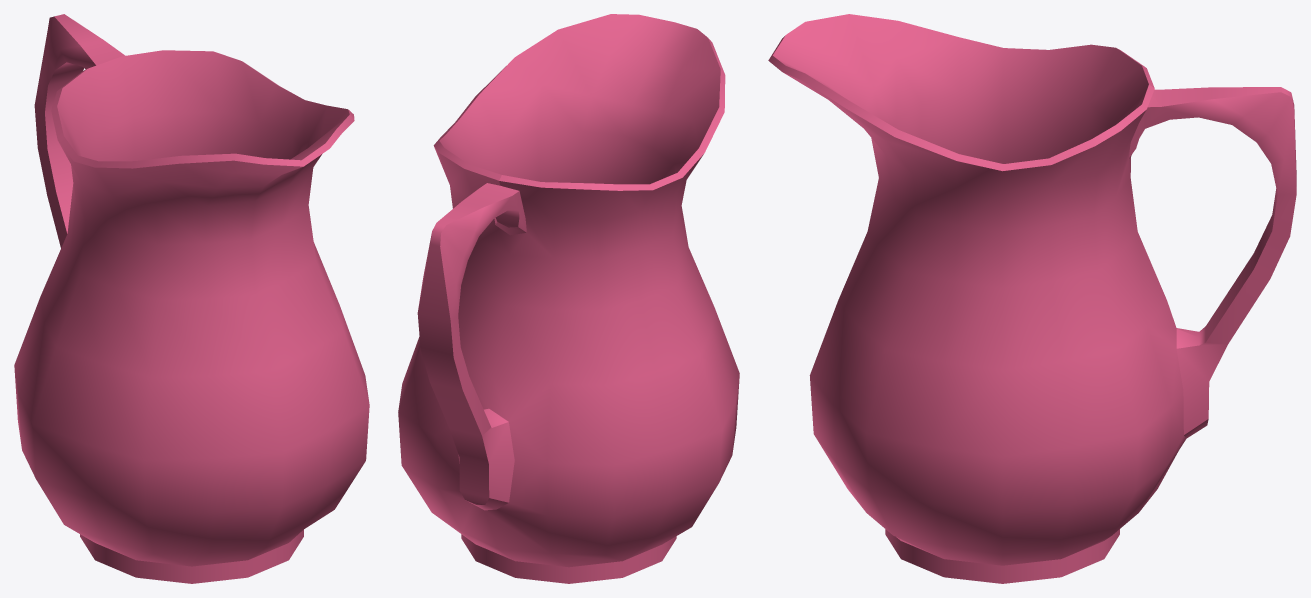
Rendered from Tableware_V2_2.fbx.
The picture shows the model from 3 angles, left to right: view 1: azimuth 30°, elevation 25°; view 2: azimuth 150°, elevation 25°; view 3: azimuth 270°, elevation 25°; orthographic projection. The views are drawn at different scales.
Parts seen in each view (by area): view 1: SM_Tableware_V2_2; view 2: SM_Tableware_V2_2; view 3: SM_Tableware_V2_2.
Boxes of the visible parts, box(x1,y1,x2,y2) form: SM_Tableware_V2_2: box(14, 14, 369, 583); SM_Tableware_V2_2: box(398, 14, 739, 583); SM_Tableware_V2_2: box(768, 14, 1296, 583).
Size of the model in its own units: 8.44 by 11.76 by 11.57.
